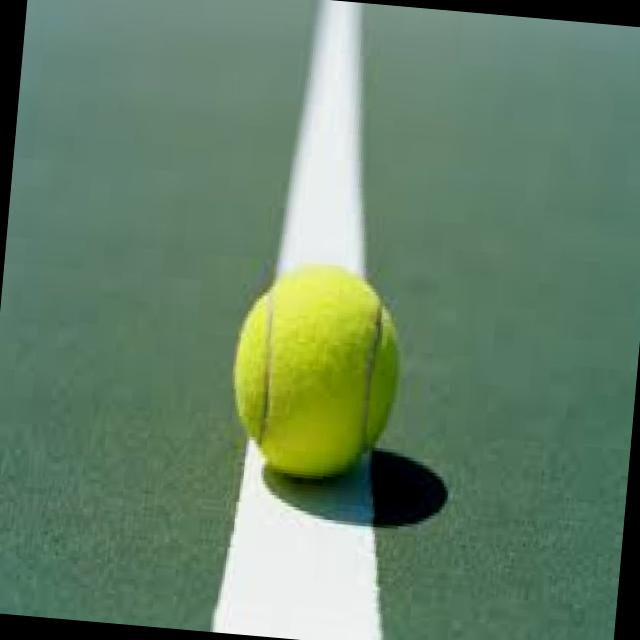tennis-ball: (225, 259, 408, 485)
